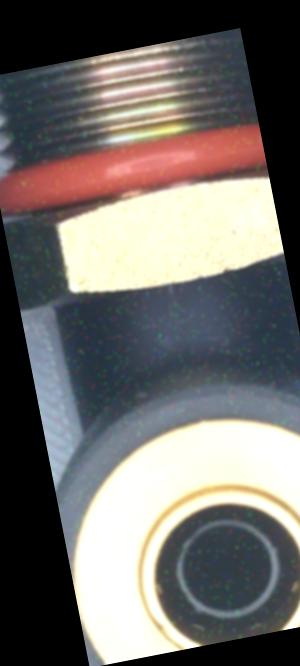joint line: (173, 314, 200, 362)
white mark: (162, 277, 182, 302)
